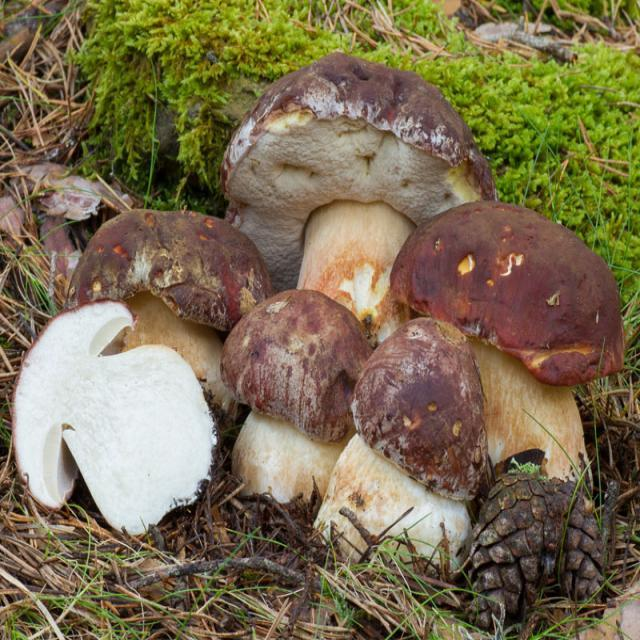Boletus: (217, 58, 496, 326), (388, 200, 625, 492), (14, 307, 214, 534), (318, 319, 483, 590), (75, 209, 274, 378), (227, 291, 353, 510)
